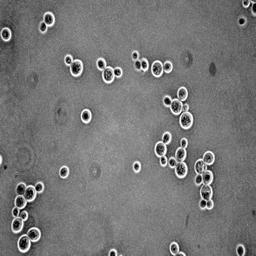Yeast: (17, 234, 31, 253), (69, 59, 83, 78), (179, 112, 193, 130), (153, 141, 167, 158), (24, 184, 37, 202), (170, 98, 183, 116), (101, 67, 114, 85), (175, 162, 188, 179), (151, 60, 163, 78), (27, 227, 41, 242), (11, 217, 24, 233), (200, 184, 213, 200), (194, 158, 207, 173), (0, 26, 12, 42), (177, 85, 188, 102), (14, 195, 27, 209), (203, 150, 215, 165), (80, 108, 92, 123), (43, 12, 55, 27), (175, 147, 187, 161), (59, 164, 69, 180), (15, 181, 27, 194), (169, 241, 180, 255), (203, 170, 214, 184), (161, 131, 172, 145), (34, 181, 45, 194), (95, 58, 106, 71), (132, 159, 141, 174), (235, 244, 246, 256), (194, 174, 204, 187), (113, 66, 123, 79), (163, 95, 173, 108), (141, 57, 149, 73), (164, 60, 173, 74), (39, 20, 48, 34), (133, 59, 142, 72), (10, 206, 20, 217), (168, 156, 177, 168), (64, 54, 73, 66), (20, 210, 29, 221), (198, 199, 207, 210), (159, 156, 168, 167), (131, 50, 140, 61), (180, 138, 189, 148), (207, 199, 214, 210)
